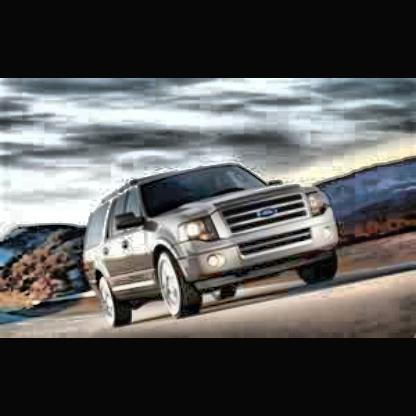Ford Expedition EL SUV 2009: (80, 162, 346, 332)
